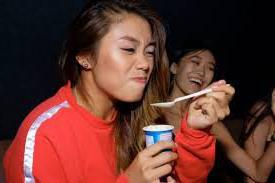Drunk: (103, 17, 154, 105), (178, 48, 214, 93)
